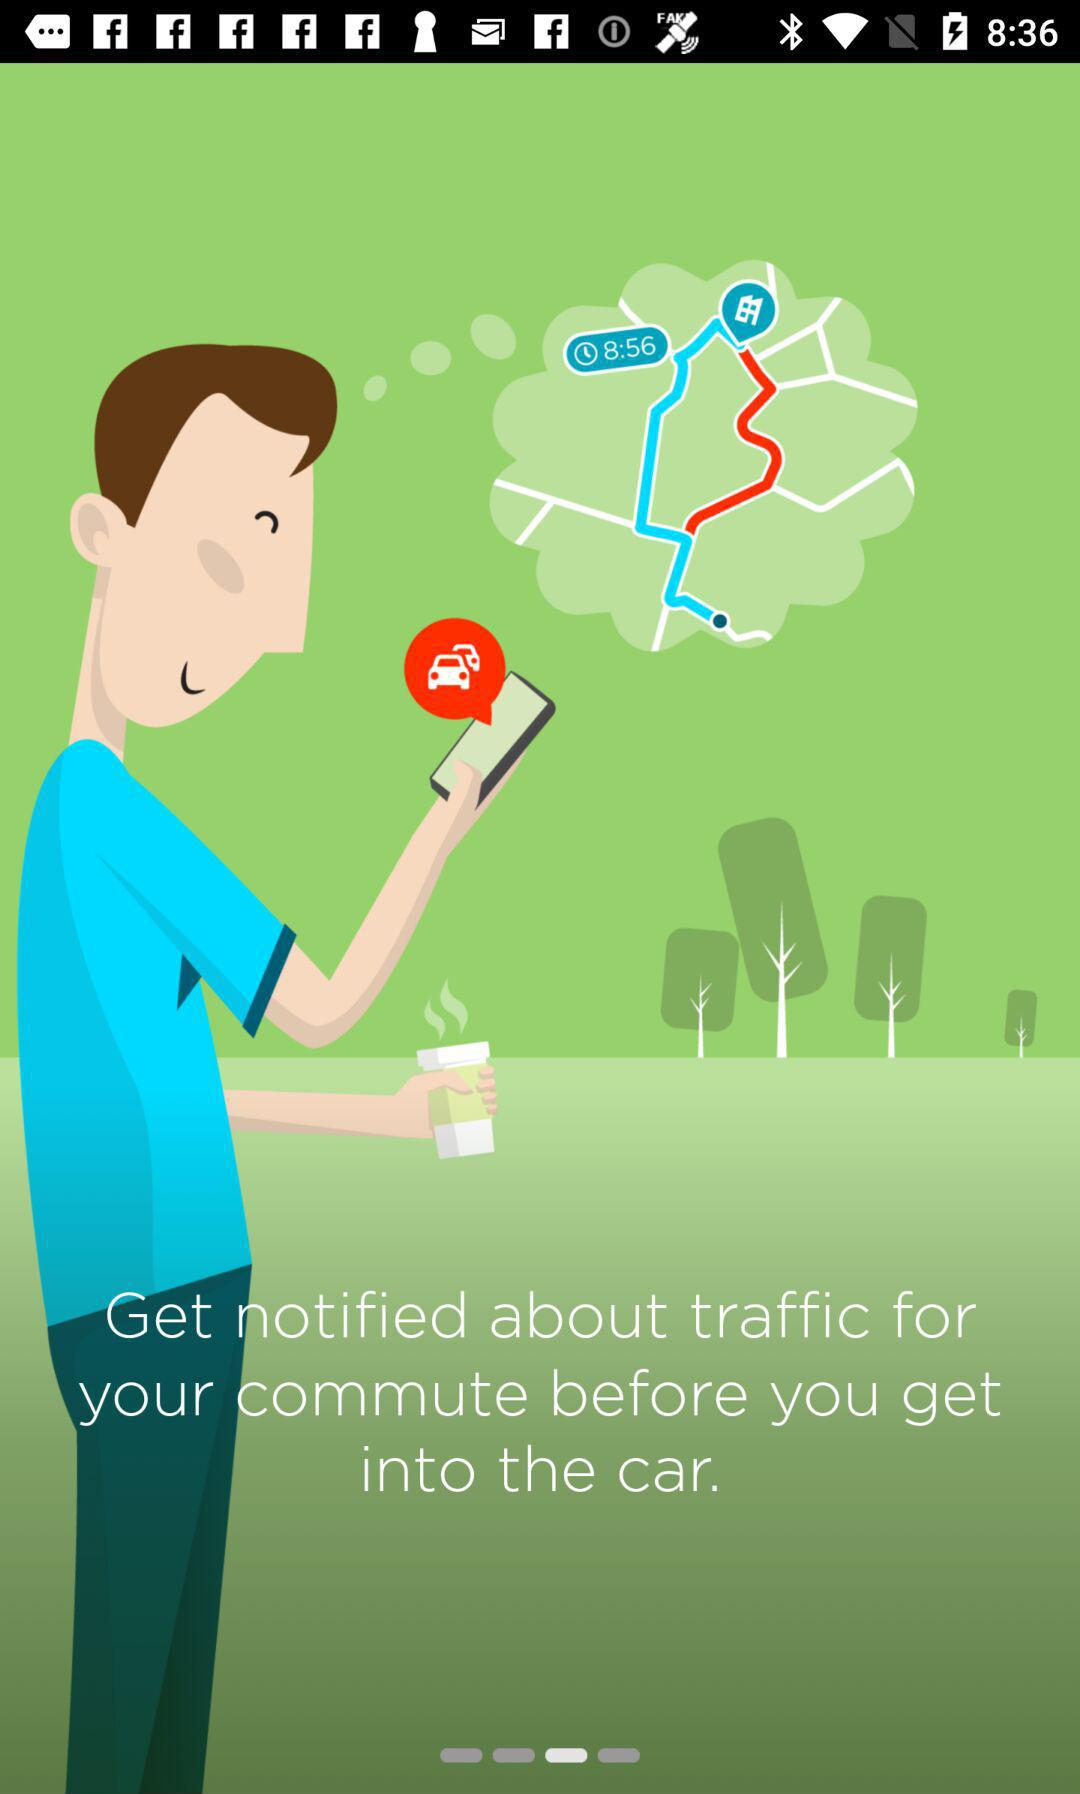BackgroundImage: (1, 64, 1080, 1794)
PageIndicator: (439, 1747, 642, 1765)
Text: (78, 1290, 1002, 1495)
UpperTaskBar: (1, 1, 1080, 64)
